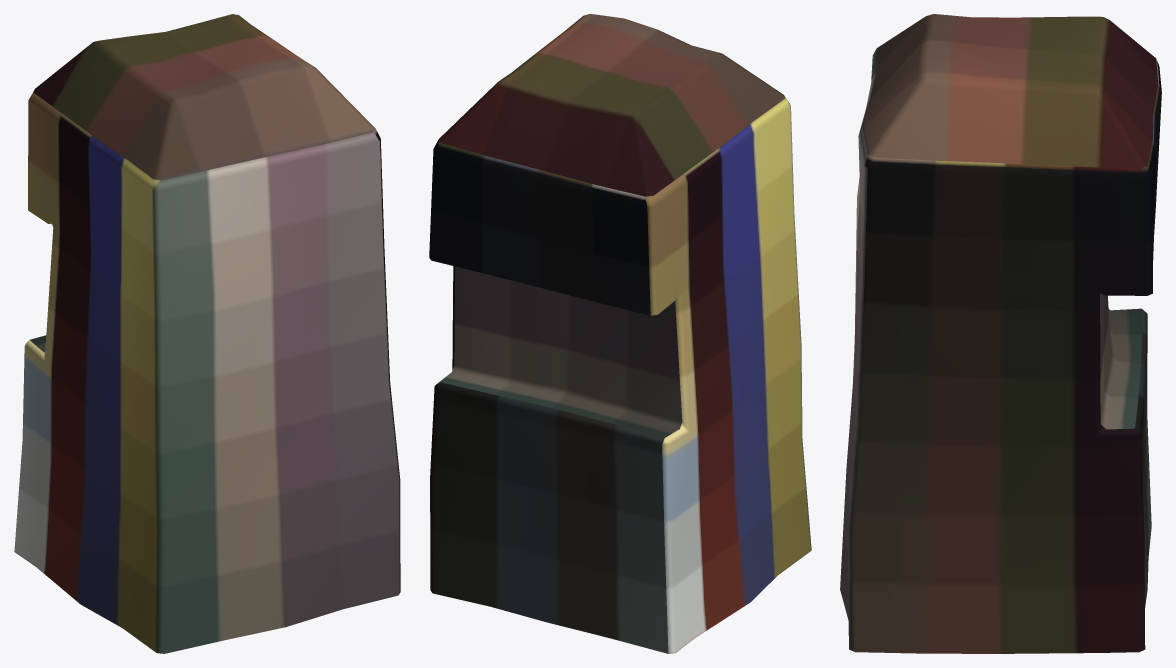
The model's file is MSH_Building_012.glb.
3 renders of one model, left to right at view 1: azimuth 30°, elevation 25°; view 2: azimuth 150°, elevation 25°; view 3: azimuth 270°, elevation 25°, orthographic. The views are drawn at different scales.
Visible parts, largest first — view 1: Base.008; view 2: Base.008; view 3: Base.008.
Boxes of the visible parts, x1,y1,x2,y2 form: Base.008: (14, 14, 400, 653); Base.008: (429, 14, 811, 653); Base.008: (840, 14, 1161, 653).
Size of the model in its own units: 5.3 by 10.3 by 5.47.
Materials: 1 (1 with a texture image).
